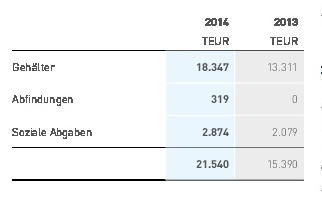table: (0, 0, 322, 197)
